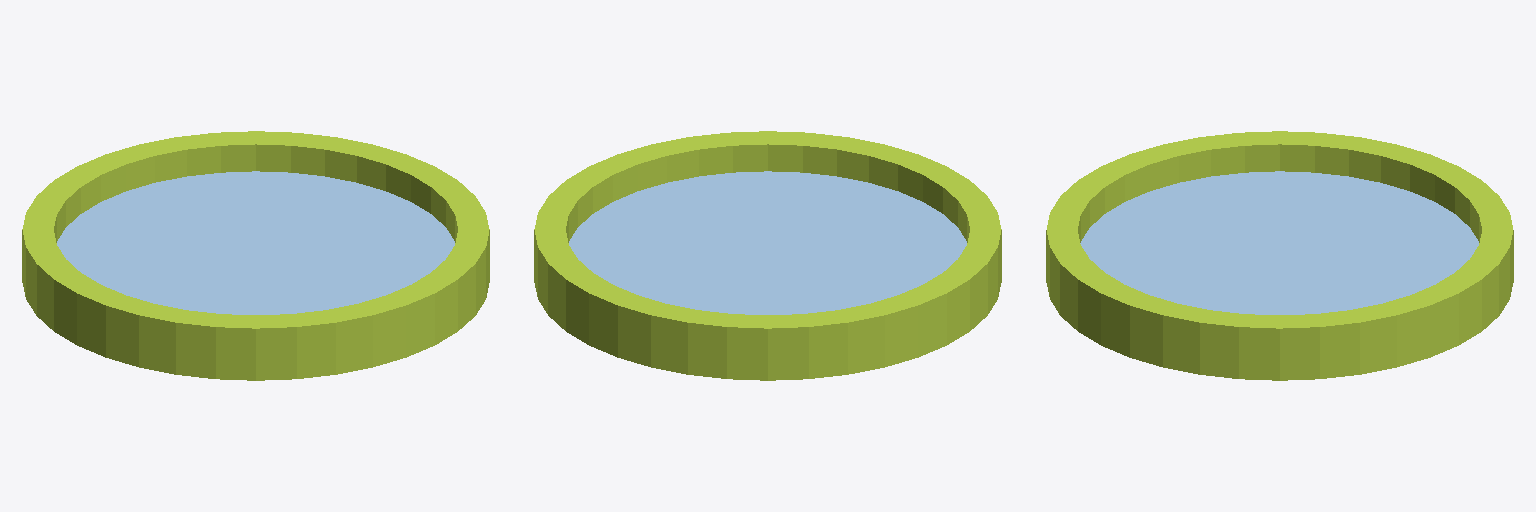
The model's file is fountaine.obj.
3 renders of one model, left to right at view 1: azimuth 30°, elevation 25°; view 2: azimuth 150°, elevation 25°; view 3: azimuth 270°, elevation 25°, orthographic.
Parts seen in each view (by area): view 1: Tube006, Cylinder010; view 2: Tube006, Cylinder010; view 3: Tube006, Cylinder010.
Boxes of the visible parts, <box> form: Tube006: <box>22,131,489,380</box>; Cylinder010: <box>57,171,454,314</box>; Tube006: <box>534,131,1001,380</box>; Cylinder010: <box>569,171,966,314</box>; Tube006: <box>1046,131,1513,380</box>; Cylinder010: <box>1080,171,1478,314</box>.
Size of the model in its own units: 0.2613 by 0.0322 by 0.2613.